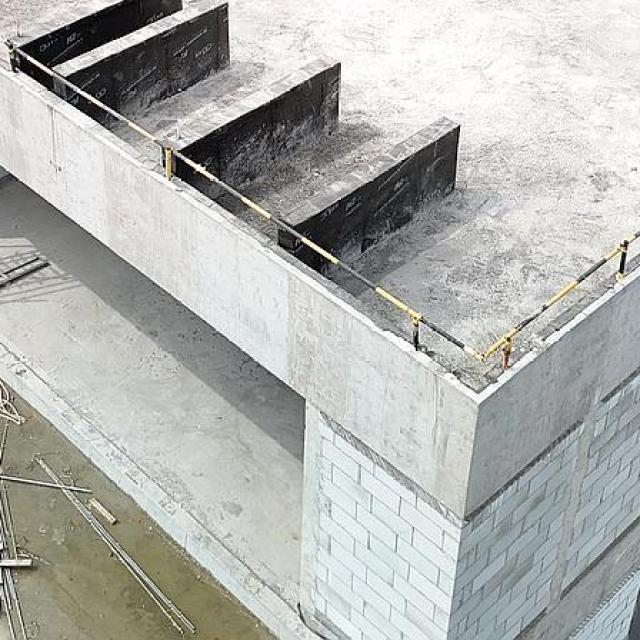Guardrail: (0, 36, 640, 368)
